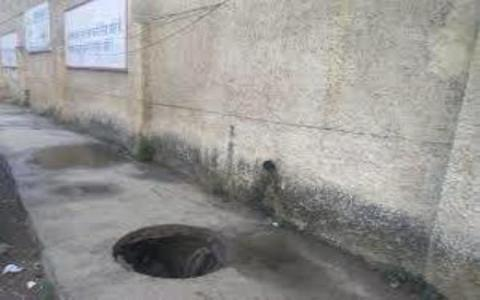open manhole: (107, 218, 229, 280)
